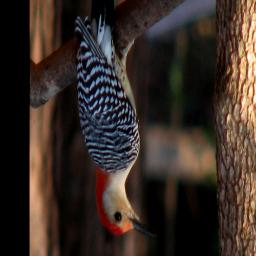Woodpecker: (67, 0, 168, 241)
